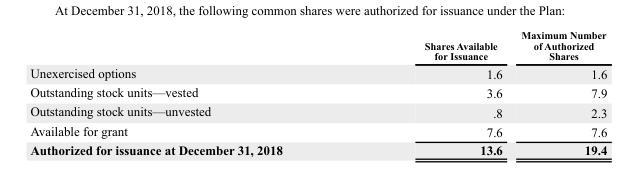table: (29, 29, 606, 156)
table column: (29, 29, 352, 156), (352, 29, 511, 156), (511, 29, 606, 156)
table column header: (29, 29, 606, 63)
table row: (29, 29, 606, 63), (29, 82, 606, 102), (29, 63, 606, 82), (29, 102, 606, 121), (29, 121, 606, 140), (29, 140, 606, 156)
